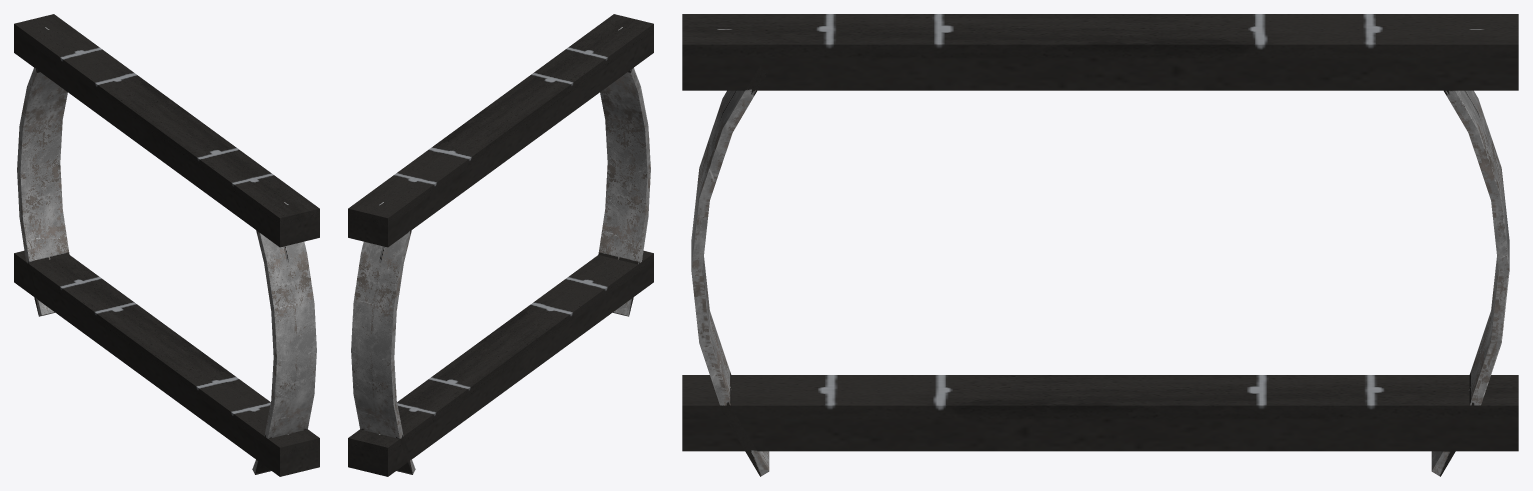
File: tunnel 2way lod.fbx
3 views of the same model, side by side, from view 1: azimuth 30°, elevation 25°; view 2: azimuth 150°, elevation 25°; view 3: azimuth 270°, elevation 25° (orthographic). The views are drawn at different scales.
Visible parts, largest first — view 1: tunnel lod bottom_low.209, tunnel lod bottom_low.210, tunnel ring lod low; view 2: tunnel lod bottom_low.209, tunnel lod bottom_low.210, tunnel ring lod low; view 3: tunnel lod bottom_low.209, tunnel lod bottom_low.210, tunnel ring lod low.
Boxes of the visible parts, <box> form: tunnel lod bottom_low.209: <box>14,14,319,247</box>; tunnel lod bottom_low.210: <box>14,251,319,476</box>; tunnel ring lod low: <box>17,55,316,474</box>; tunnel lod bottom_low.209: <box>348,14,653,247</box>; tunnel lod bottom_low.210: <box>348,251,653,476</box>; tunnel ring lod low: <box>351,68,650,474</box>; tunnel lod bottom_low.209: <box>682,14,1518,90</box>; tunnel lod bottom_low.210: <box>682,375,1518,451</box>; tunnel ring lod low: <box>691,65,1509,476</box>.
Size of the model in its own units: 1155 by 100 by 659.
